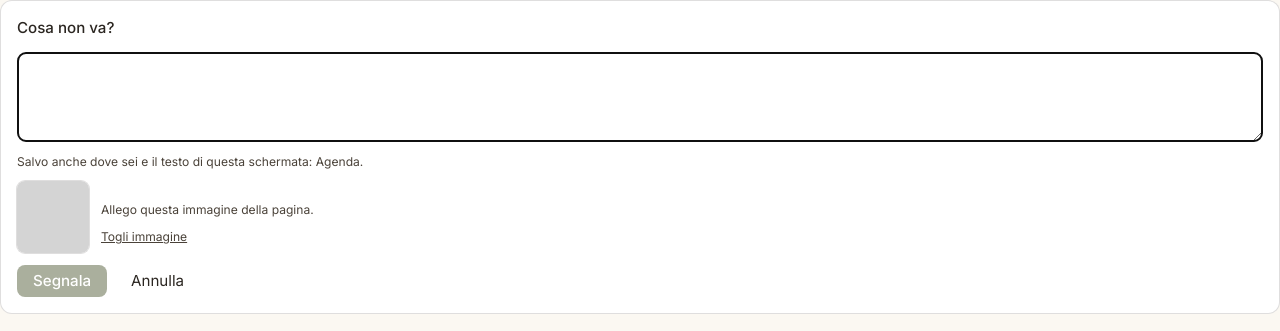
Test case: «Segnala» con l'immagine della pagina › 🔴 l'immagine pronta parte con la segnalazione
Type "i pulsanti escono" into the text box labelled "Cosa non va?".
click(640, 97); type("i pulsanti escono")  # box [17,52,1263,142]
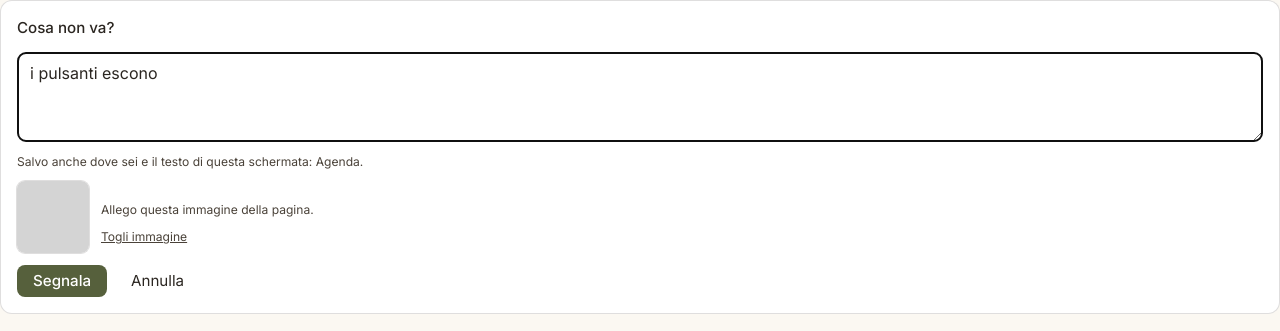
Click the button "Segnala".
click(62, 281)  # box [17,265,107,297]
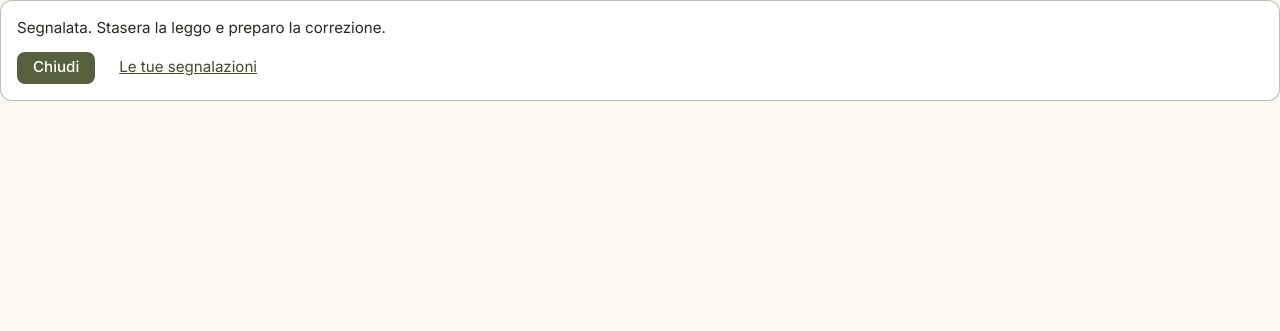
Now the text "Segnalata. Stasera la leggo e preparo la correzione." is shown, box [17,18,386,37]
